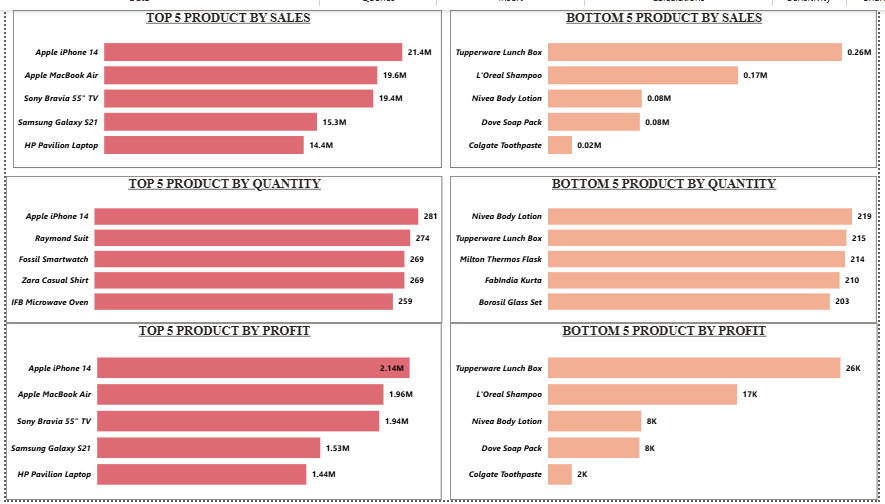

The dashboard page shown, as its layout file describes it:
{"tool":"powerbi","page":{"name":"TOP /BOTTOM  5 ANALYSIS","canvas":[1280,720],"ordinal":1},"visuals":[{"type":"barChart","title":"TOP 5 PRODUCT BY SALES","fields":{"Category":["Dim Product.Product Name"],"Y":["Sum(fact table.net sales)"]},"box":[10.3,0,630.4,232.2],"z":0},{"type":"barChart","title":"BOTTOM 5 PRODUCT BY SALES","fields":{"Category":["Dim Product.Product Name"],"Y":["Sum(fact table.net sales)"]},"box":[652.4,0,627.4,232.2],"z":1000},{"type":"barChart","title":"TOP 5 PRODUCT BY QUANTITY","fields":{"Category":["Dim Product.Product Name"],"Y":["Sum(fact table.Units Sold)"]},"box":[0,243.9,640.7,216],"z":2000},{"type":"barChart","title":"BOTTOM 5 PRODUCT BY QUANTITY","fields":{"Category":["Dim Product.Product Name"],"Y":["Sum(fact table.Units Sold)"]},"box":[652.4,243.9,627.4,216],"z":3000},{"type":"barChart","title":"TOP 5 PRODUCT BY PROFIT","fields":{"Category":["Dim Product.Product Name"],"Y":["Sum(fact table.profit)"]},"box":[0,460.3,640,260.4],"z":4000},{"type":"barChart","title":"BOTTOM 5 PRODUCT BY PROFIT","fields":{"Category":["Dim Product.Product Name"],"Y":["Sum(fact table.profit)"]},"box":[651.8,460.3,628.2,260.4],"z":5000}]}

Visuals, with their boxes in screenshot pixels (x1, y1, x2, y2), scaled from the page's 1280x720 canvas onto the 885x504 screenshot:
"TOP 5 PRODUCT BY SALES" barChart: 7,0,443,163
"BOTTOM 5 PRODUCT BY SALES" barChart: 451,0,884,163
"TOP 5 PRODUCT BY QUANTITY" barChart: 0,171,443,322
"BOTTOM 5 PRODUCT BY QUANTITY" barChart: 451,171,884,322
"TOP 5 PRODUCT BY PROFIT" barChart: 0,322,442,503
"BOTTOM 5 PRODUCT BY PROFIT" barChart: 451,322,884,503
